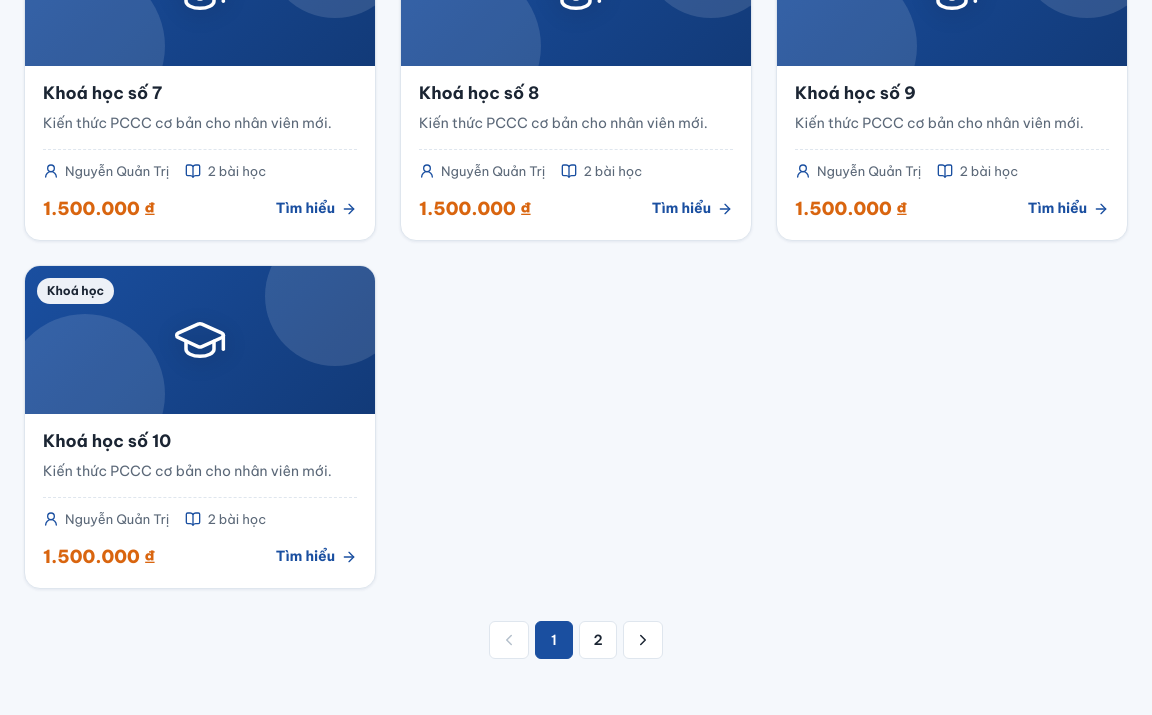
Test: CoursesPage (người dùng) › searches by name and pages through results
The width and height of the screenshot is (1152, 715).
(page scrolled)
Click the button named "Trang 2" at (598, 640), box [579, 621, 617, 659]
(page scrolled)
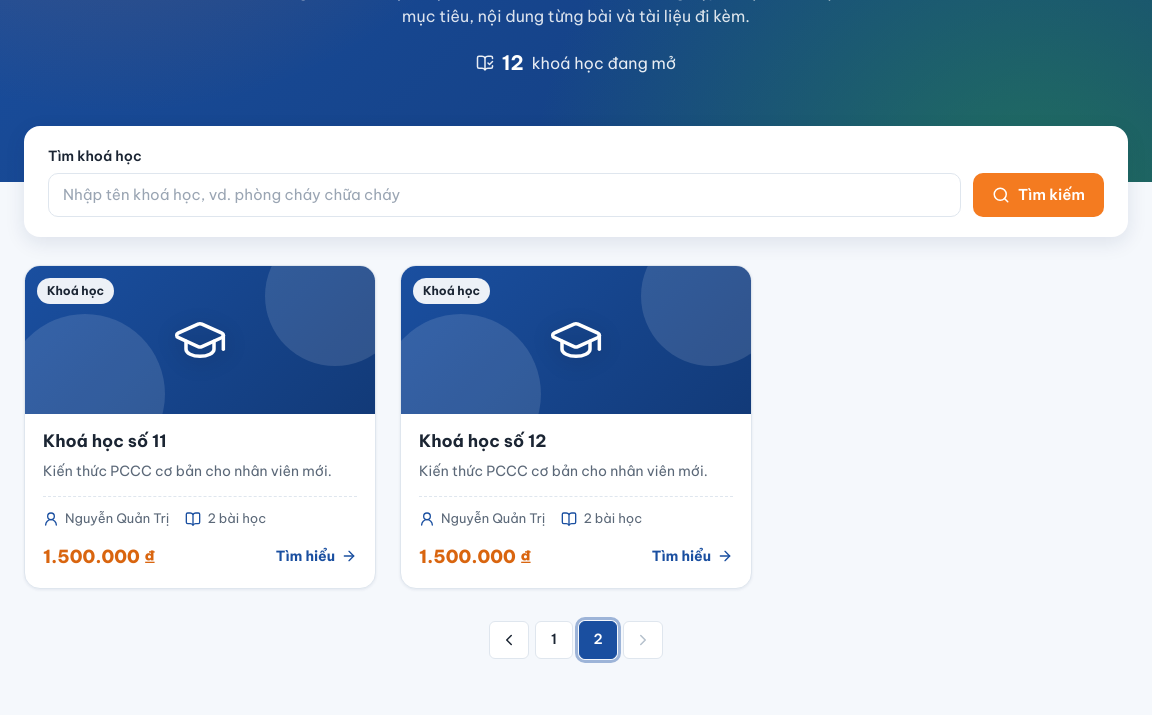
Expected: the link "Khoá học số 11" is shown, [43, 430, 167, 452]
Type "pccc" into the search field labelled "Tìm khoá học" at (504, 195), box [48, 173, 961, 217]
Then press Enter
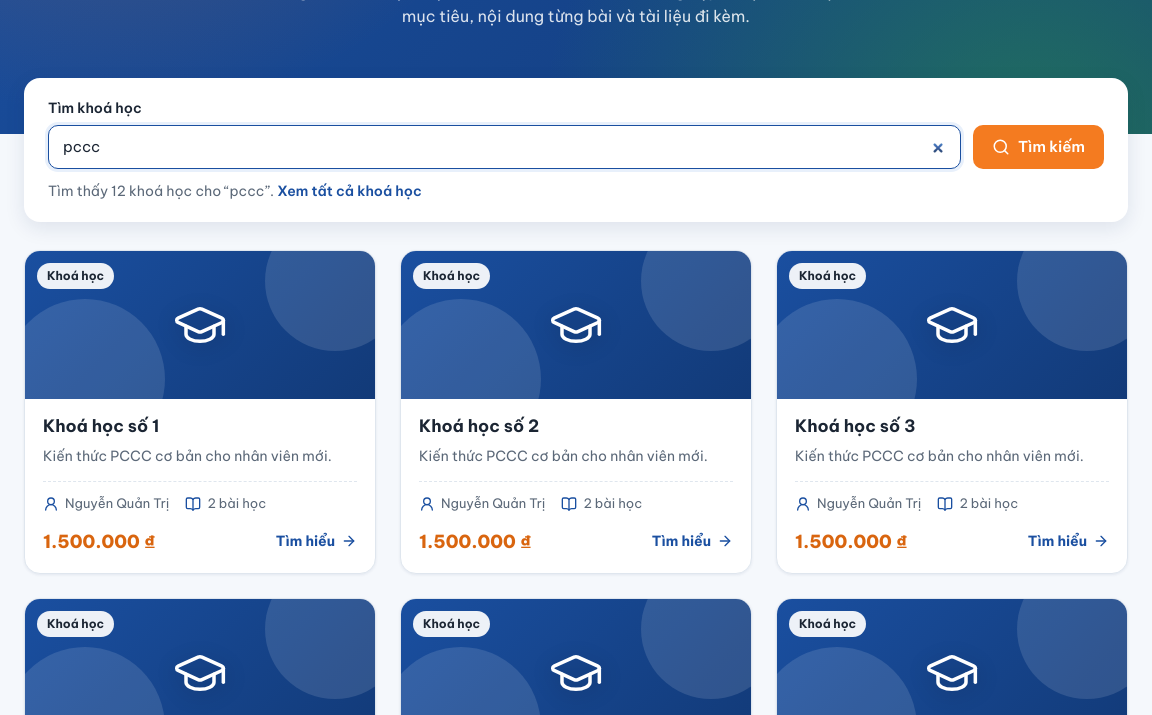
Expected: the text "Tìm thấy 12 khoá học cho “pccc”. Xem tất cả khoá học" is shown, [48, 181, 422, 202]
